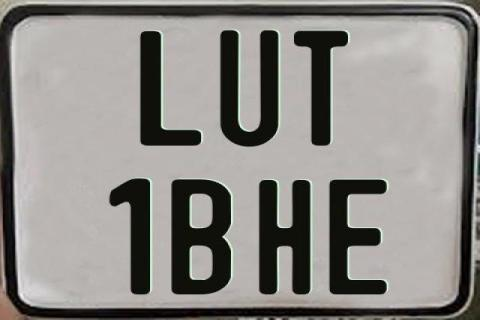0: (107, 176, 154, 297)
B: (170, 178, 236, 296)
E: (326, 177, 388, 293)
H: (260, 178, 310, 294)
L: (139, 30, 201, 146)
T: (294, 29, 350, 149)
U: (217, 29, 279, 149)
